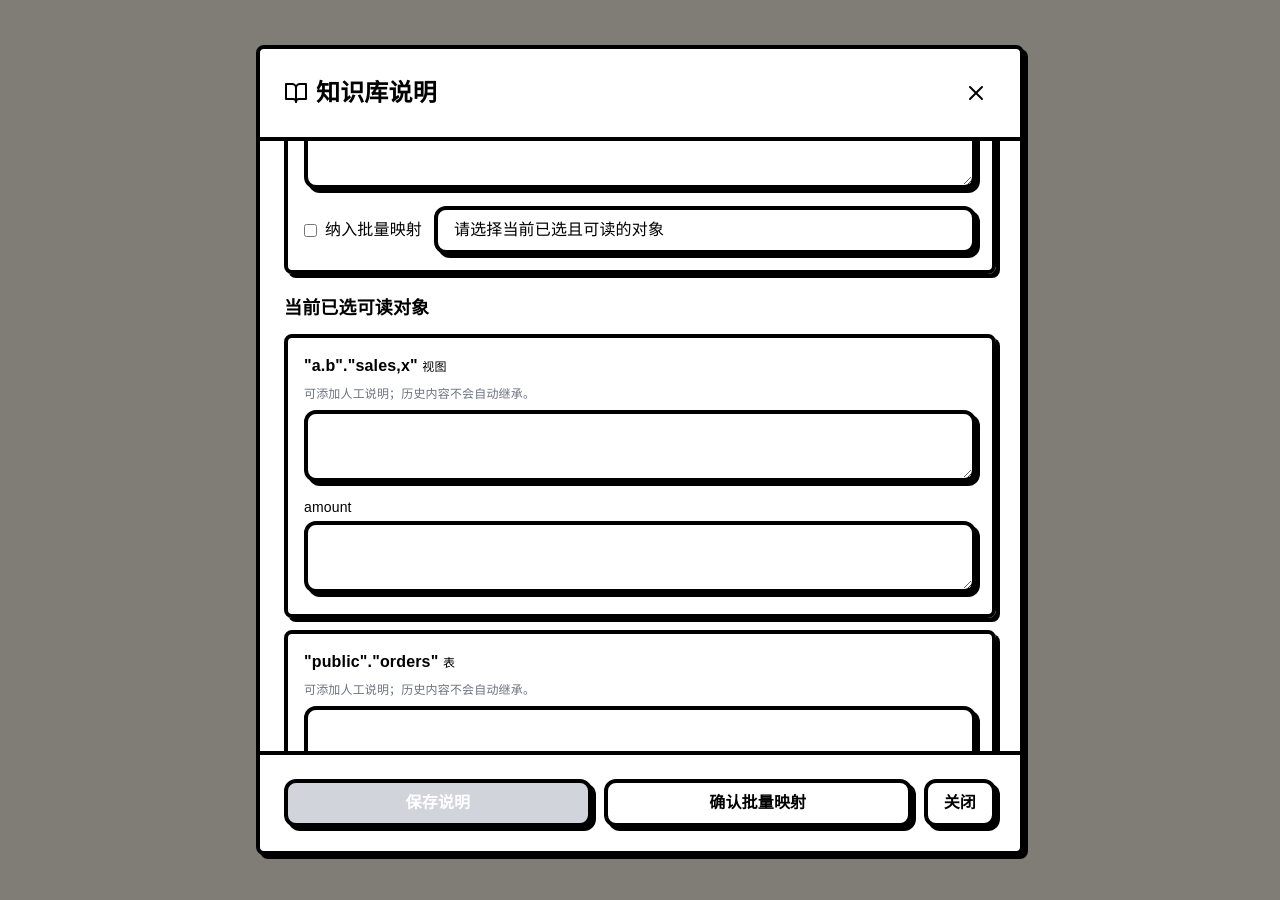
Scenario: new manual object text uses object_id without copying identity evidence
The image size is (1280, 900).
(page scrolled)
Type "视图手工说明" into the text box named "新对象说明 \"a.b\".\"sales,x\"" at (640, 446), box [304,410,976,482]
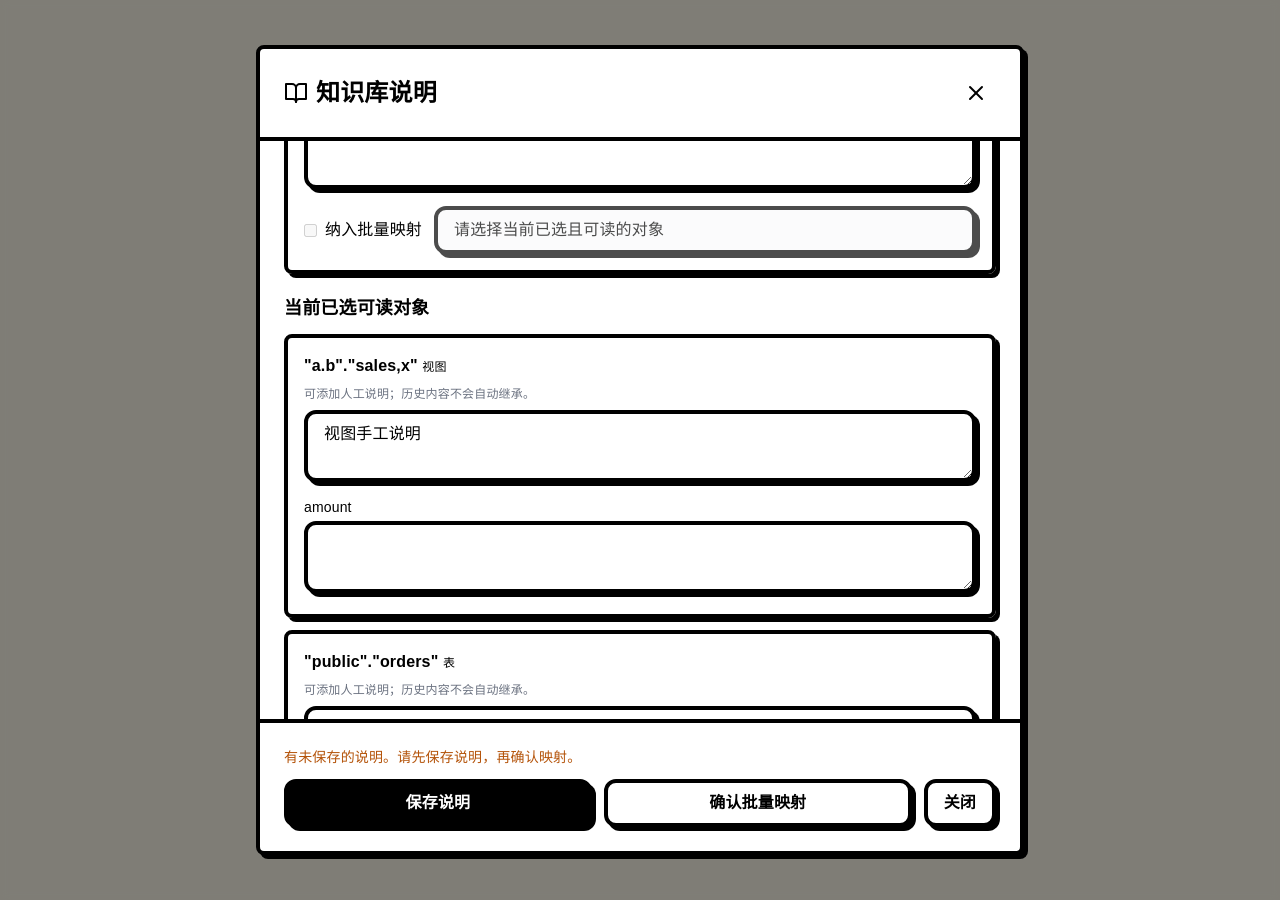
Click the button "保存说明" at (438, 803), box [284,779,592,827]
(page scrolled)
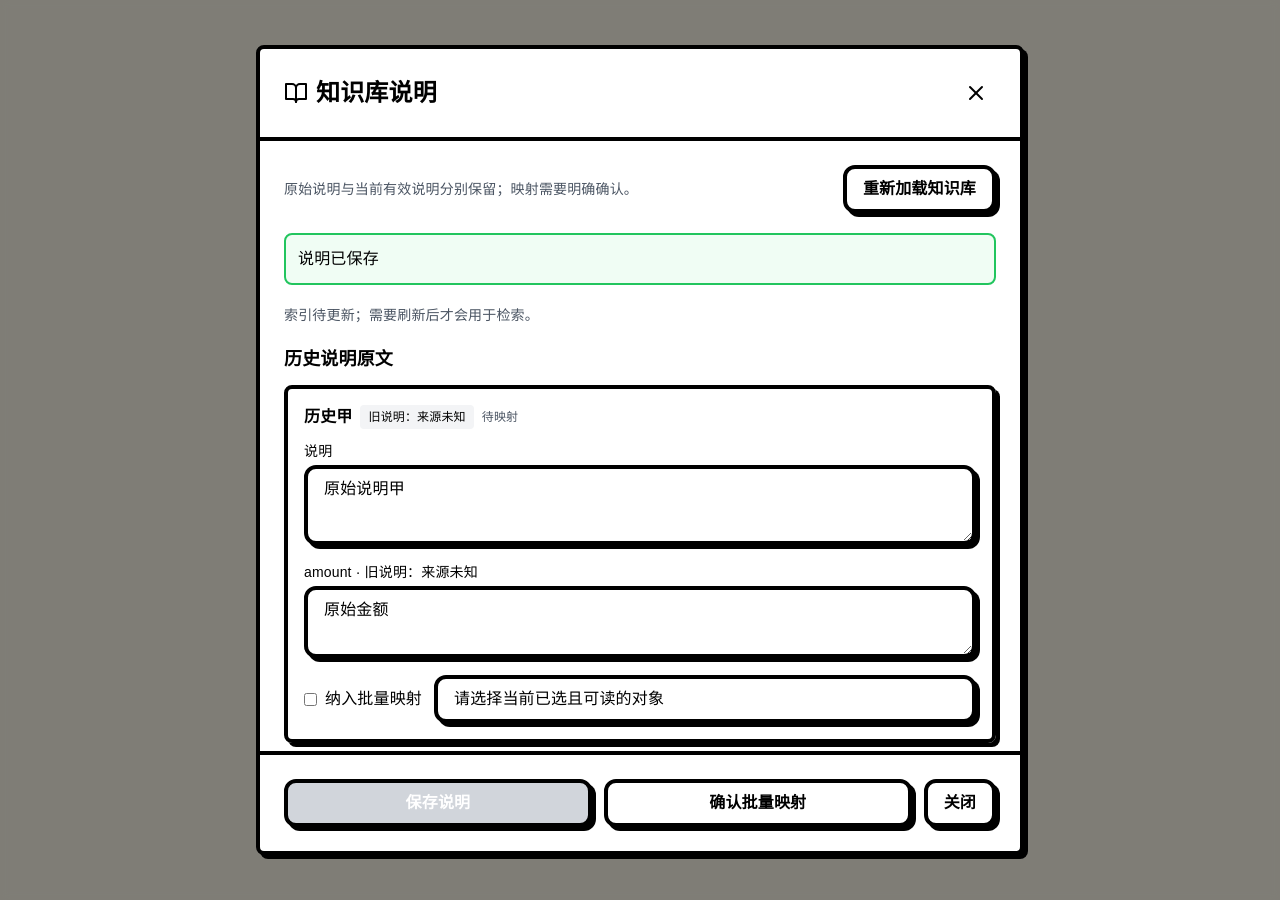
Check: the text "说明已保存" is shown, box [284,233,996,285]
